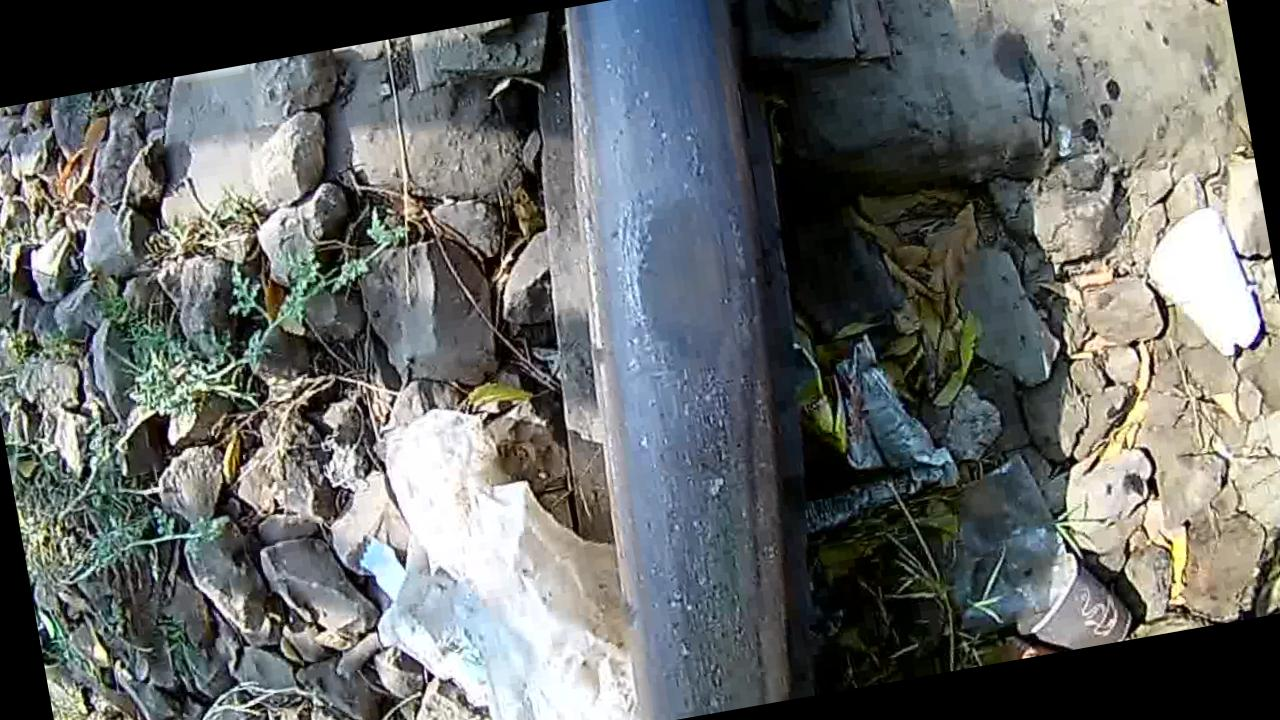bolt_missing: (562, 124, 817, 566)
